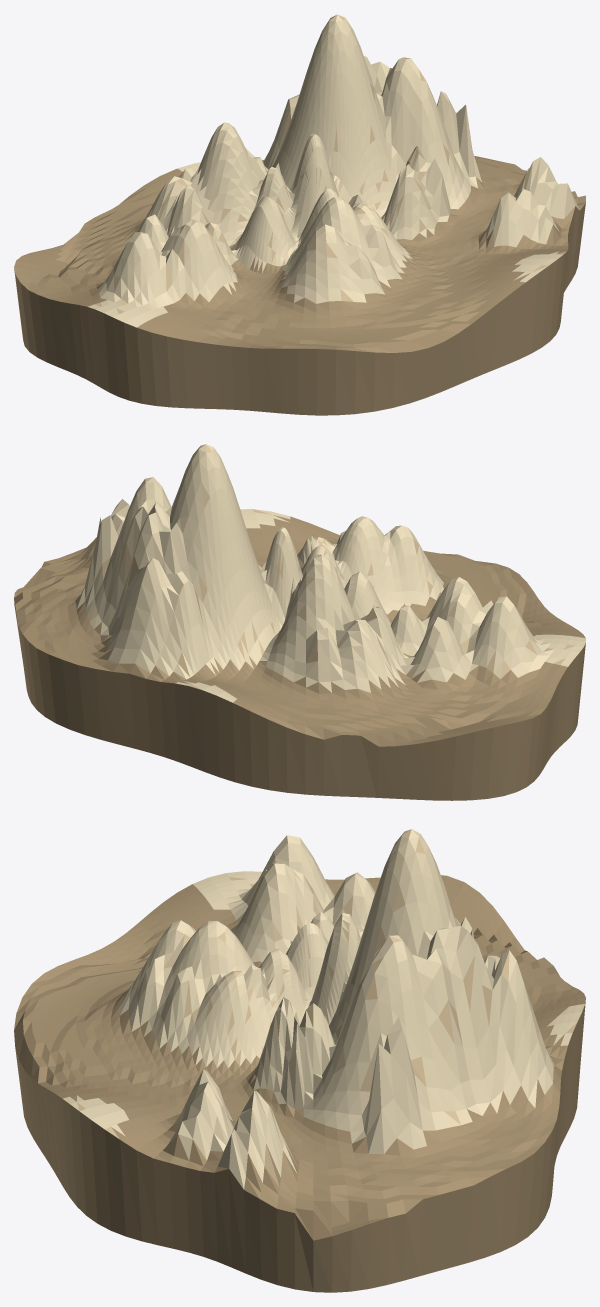
The model's file is cave-popcorn.glb.
The picture shows the model from 3 angles, top to bottom: view 1: azimuth 30°, elevation 25°; view 2: azimuth 150°, elevation 25°; view 3: azimuth 270°, elevation 25°; orthographic projection. The views are drawn at different scales.
Visible parts, largest first — view 1: continuous-calcite-on-limestone; view 2: continuous-calcite-on-limestone; view 3: continuous-calcite-on-limestone.
Part boxes in pixels (x1=…): continuous-calcite-on-limestone: x1=14, y1=14, x2=585, y2=415; continuous-calcite-on-limestone: x1=14, y1=444, x2=585, y2=800; continuous-calcite-on-limestone: x1=14, y1=829, x2=585, y2=1292.
Bounding box in the file's own units: 0.55 × 0.26 × 0.4.
